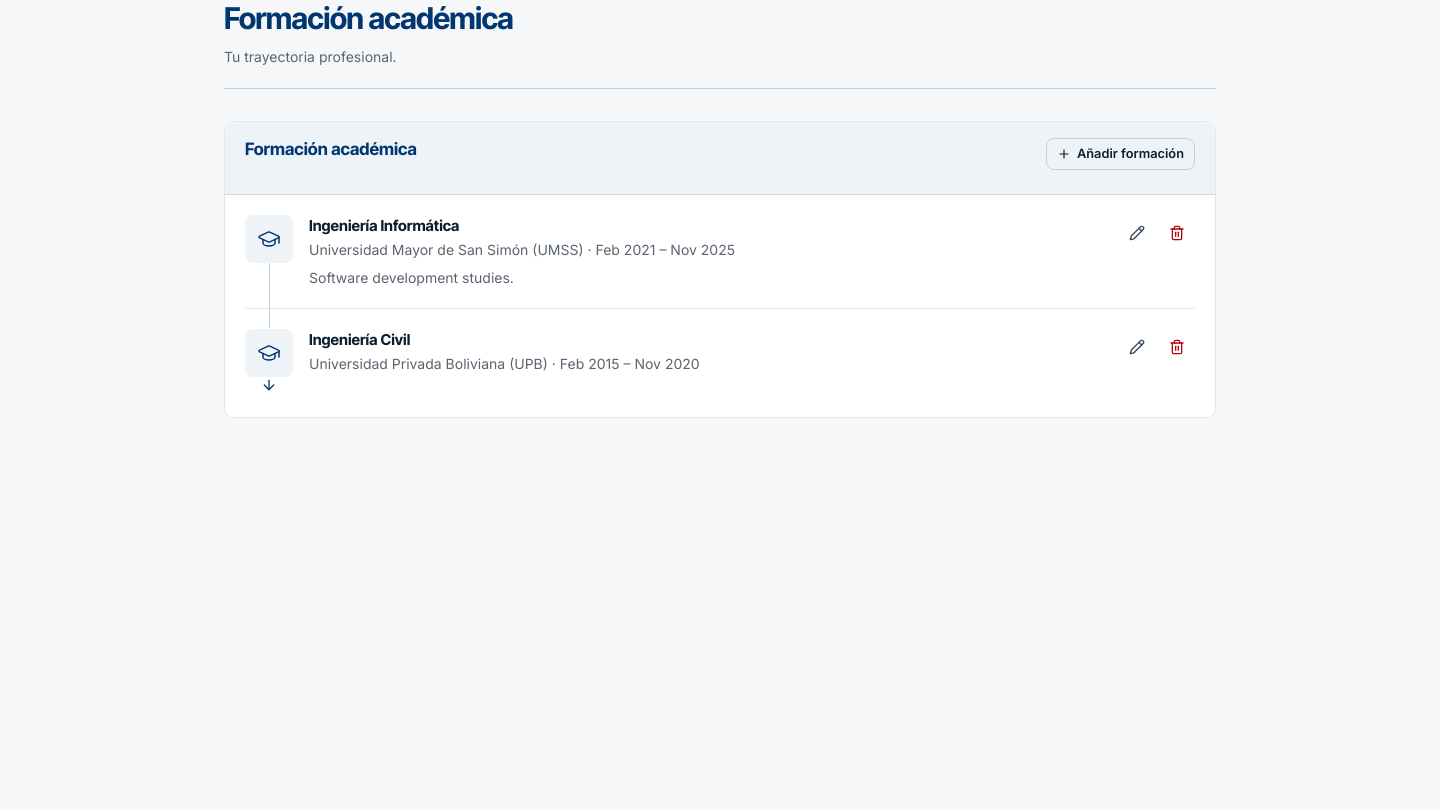
EducationView › keeps the editor closed until the add action is requested
Expected: the list named "Formación registrada" is shown, [245, 215, 1195, 397]
What coordinates should you click on to do the following:
click the button "Añadir formación"
I would click on:
 (1120, 154)
Its box is [1046, 138, 1195, 170].
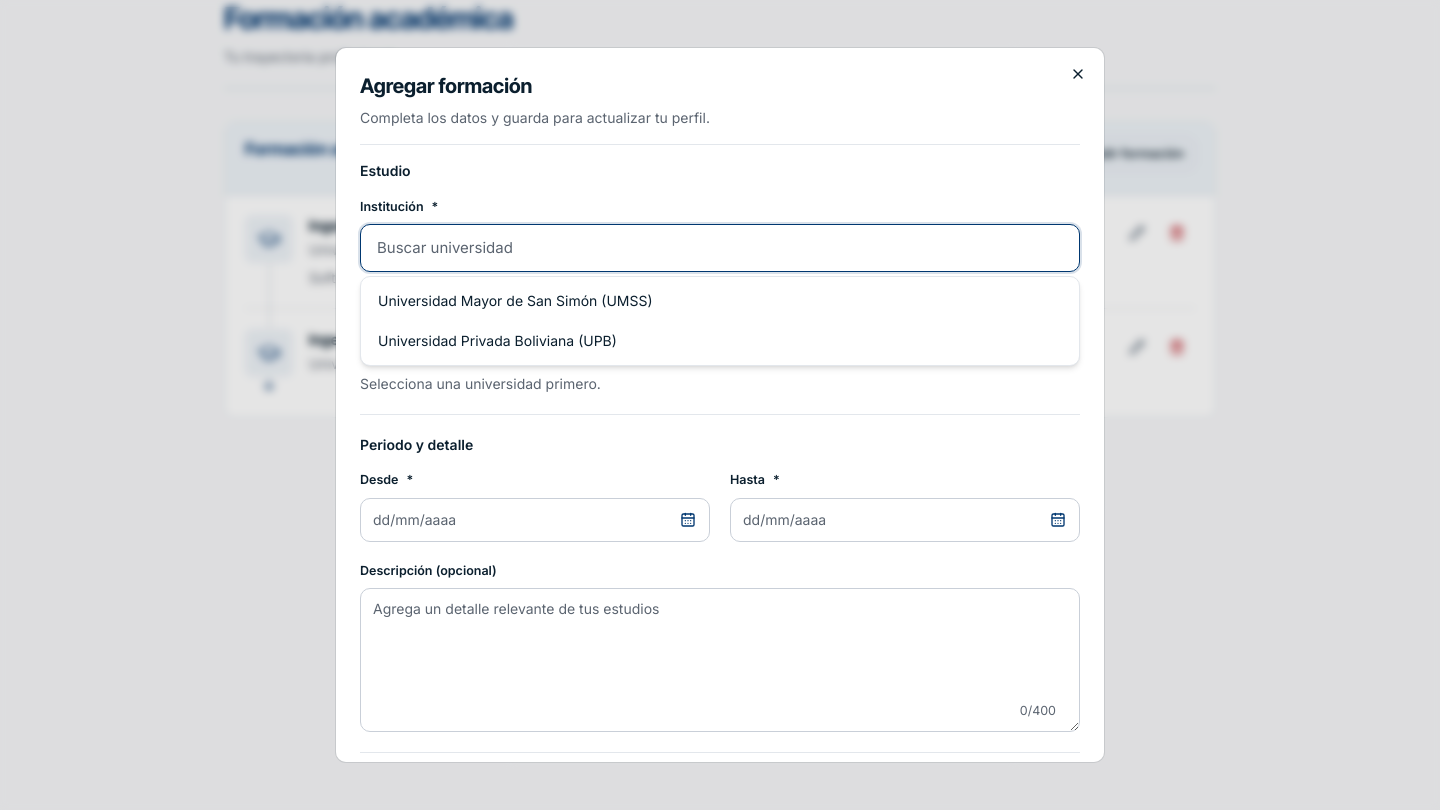
Expected: the dialog "Agregar formación" is shown, [336, 48, 1104, 762]
Expected: the dropdown labelled "Institución *" is shown, [360, 224, 1080, 272]
